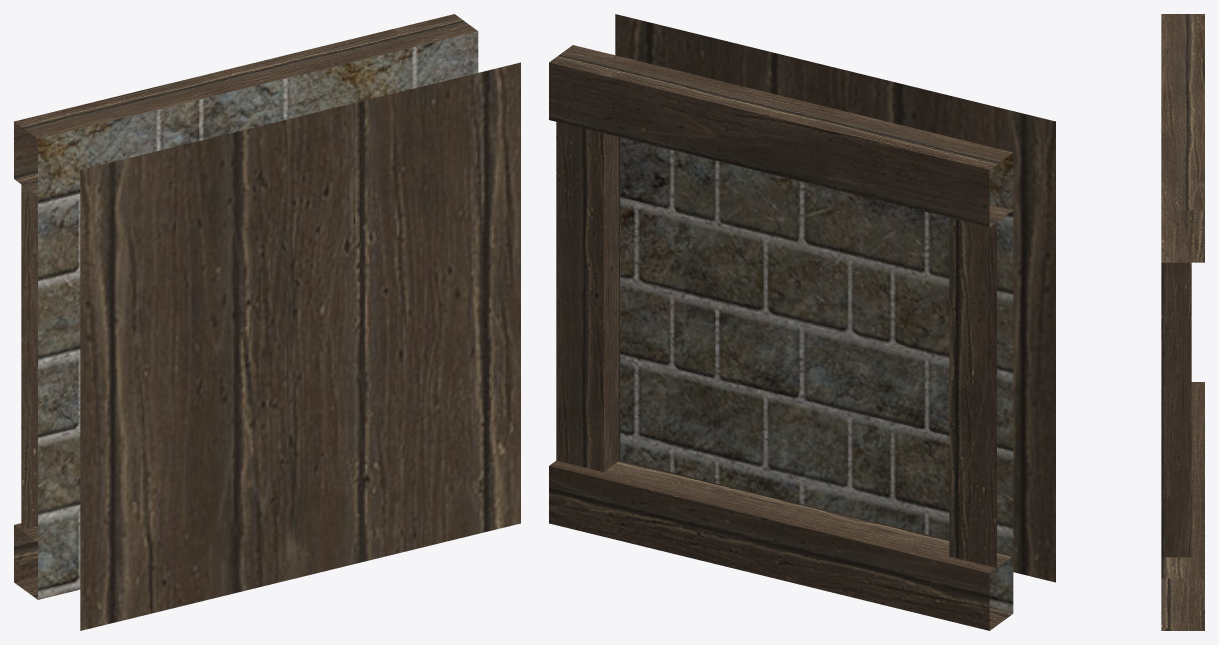
The model's file is ARC1010204.fbx.
3 renders of one model, left to right at view 1: azimuth 30°, elevation 25°; view 2: azimuth 150°, elevation 25°; view 3: azimuth 270°, elevation 25°, orthographic. The views are drawn at different scales.
Visible parts, largest first — view 1: smARC1010204; view 2: smARC1010204; view 3: smARC1010204.
Boxes of the visible parts, <box> form: smARC1010204: <box>14,14,520,630</box>; smARC1010204: <box>549,14,1055,630</box>; smARC1010204: <box>1161,14,1204,630</box>.
Size of the model in its own units: 134 by 134 by 34.9.
1 material, 1 textured.
